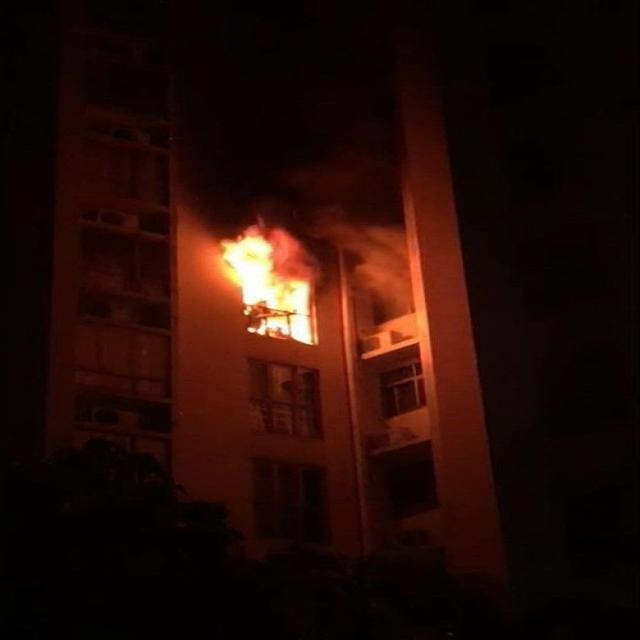Fire: (216, 225, 315, 348)
